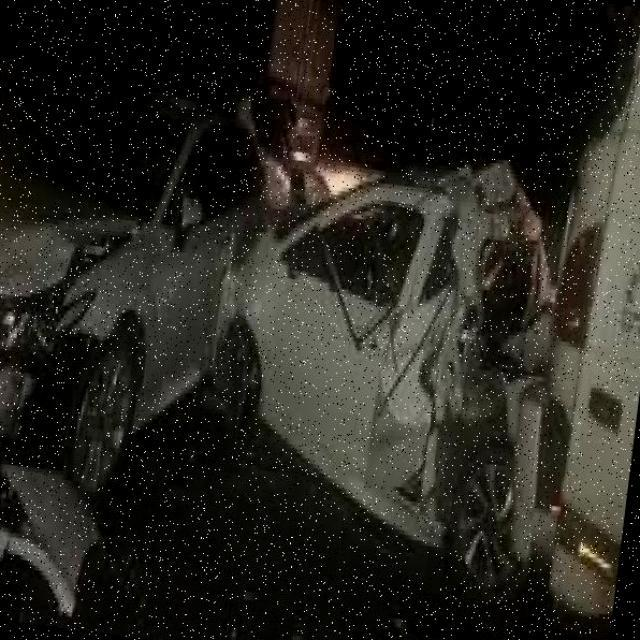accident: (168, 105, 620, 579), (0, 116, 189, 594)
